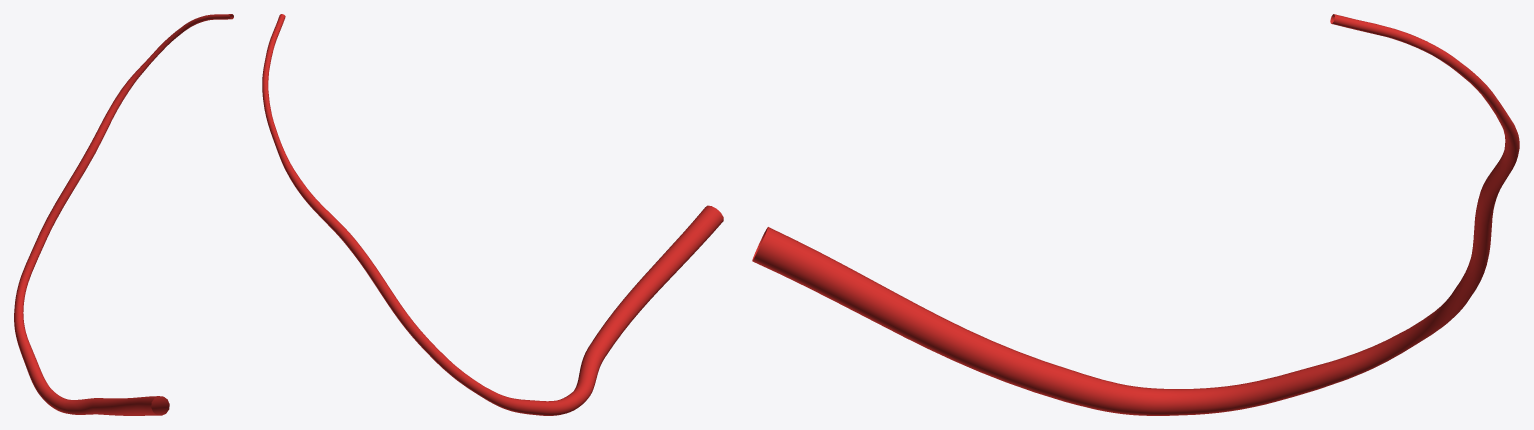
File: circulatorio-medial-circumflex-femoral-artery-l.glb
3 views of the same model, side by side, from view 1: azimuth 30°, elevation 25°; view 2: azimuth 150°, elevation 25°; view 3: azimuth 270°, elevation 25° (orthographic). The views are drawn at different scales.
Parts seen in each view (by area): view 1: Medial circumflex femoral artery.l; view 2: Medial circumflex femoral artery.l; view 3: Medial circumflex femoral artery.l.
Part boxes in pixels (x1,y1,x2,y2): Medial circumflex femoral artery.l: (14,14,233,415); Medial circumflex femoral artery.l: (262,14,723,415); Medial circumflex femoral artery.l: (752,14,1519,415).
Size of the model in its own units: 0.035 by 0.0451 by 0.0524.
